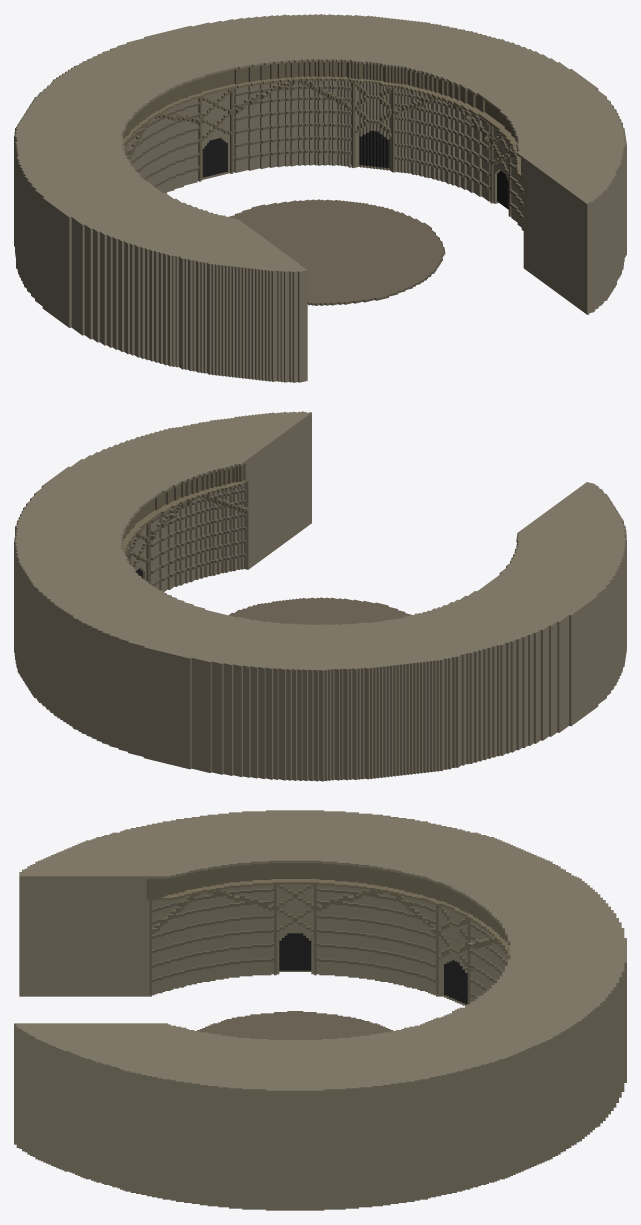
Rendered from battleStage.obj.
3 renders of one model, top to bottom at view 1: azimuth 30°, elevation 25°; view 2: azimuth 150°, elevation 25°; view 3: azimuth 270°, elevation 25°, orthographic. The views are drawn at different scales.
Size of the model in its own units: 25 by 5 by 23.1.
1 material, 1 textured.
